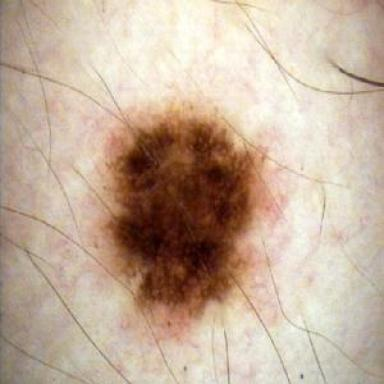Melanoma: (105, 100, 264, 336)
